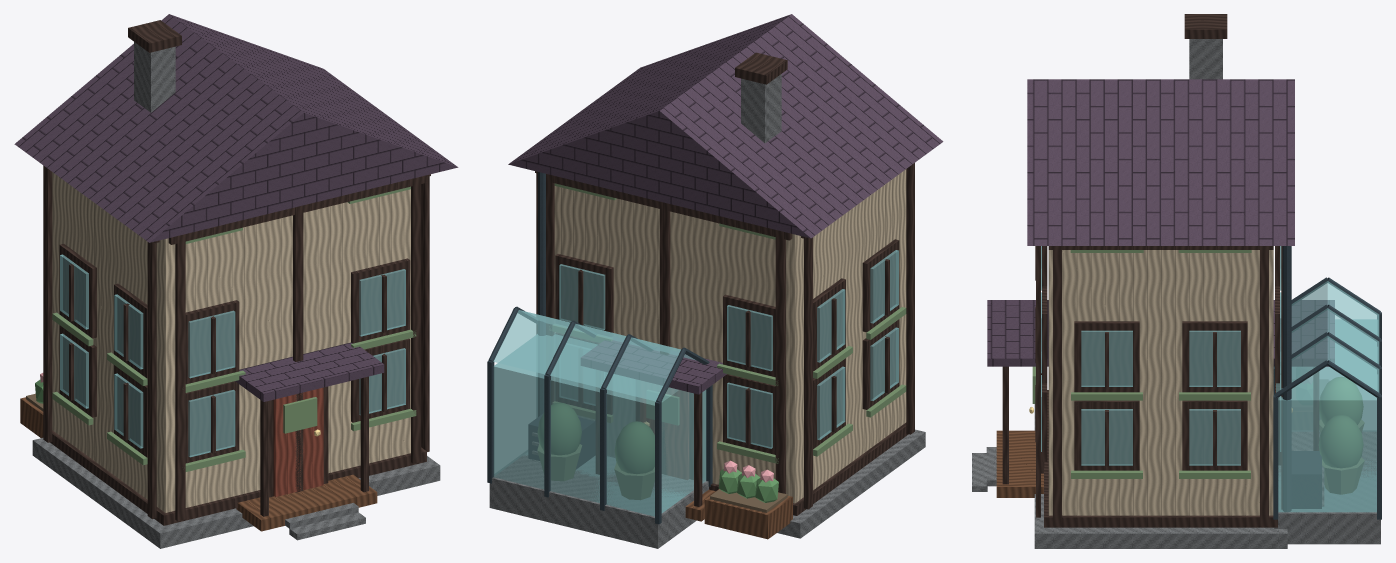
File: house_tudor_lv3_greenhouse.glb
3 views of the same model, side by side, from view 1: azimuth 30°, elevation 25°; view 2: azimuth 150°, elevation 25°; view 3: azimuth 270°, elevation 25° (orthographic).
Visible parts, largest first — view 1: gable_roof, walls, foundation, front_porch_canopy, front_window_frame.003, front_door, front_window_frame.002, floor_trim, front_deck, front_window_frame, front_timber, front_timber.002 (+30 smaller); view 2: gable_roof, walls, greenhouse_glazing, greenhouse_plinth, greenhouse_roof, back_porch_canopy, back_window_frame.003, foundation, back_window_frame.002, back_window_frame, back_timber, left_timber.001 (+36 smaller); view 3: gable_roof, walls, greenhouse_glazing, greenhouse_roof, foundation, right_window_frame.002, right_window_frame.003, right_window_frame, right_window_frame.001, greenhouse_plinth, front_porch_canopy, floor_trim (+27 smaller).
Boxes of the visible parts, box(x1,y1,x2,y2) form: gable_roof: box(14, 14, 458, 242); walls: box(52, 172, 410, 512); foundation: box(32, 438, 440, 548); front_porch_canopy: box(235, 342, 384, 401); front_window_frame.003: box(351, 258, 410, 343); front_door: box(273, 387, 323, 496); front_window_frame.002: box(185, 300, 239, 384); floor_trim: box(50, 430, 426, 525); front_deck: box(236, 474, 377, 531); front_window_frame: box(185, 381, 239, 463); front_timber: box(175, 234, 185, 521); front_timber.002: box(411, 176, 421, 463); gable_roof: box(508, 14, 943, 238); walls: box(554, 169, 906, 503); greenhouse_glazing: box(493, 334, 706, 516); greenhouse_plinth: box(489, 454, 708, 548); greenhouse_roof: box(493, 310, 695, 401); back_porch_canopy: box(581, 340, 726, 394); back_window_frame.003: box(555, 254, 613, 332); foundation: box(777, 429, 925, 538); back_window_frame.002: box(723, 294, 775, 377); back_window_frame: box(723, 374, 775, 454); back_timber: box(775, 230, 785, 493); left_timber.001: box(804, 237, 812, 509); gable_roof: box(1027, 79, 1294, 245); walls: box(1048, 250, 1273, 515); greenhouse_glazing: box(1278, 319, 1377, 512); greenhouse_roof: box(1276, 281, 1379, 392); foundation: box(1034, 404, 1287, 548); right_window_frame.002: box(1074, 321, 1139, 392); right_window_frame.003: box(1182, 321, 1247, 392); right_window_frame: box(1074, 400, 1139, 470); right_window_frame.001: box(1182, 400, 1247, 470); greenhouse_plinth: box(1274, 431, 1380, 544); front_porch_canopy: box(987, 300, 1048, 366); floor_trim: box(1044, 390, 1277, 527).
Bounding box in the file's own units: 3.15 × 4.22 × 3.64.
13 materials, 7 textured.
